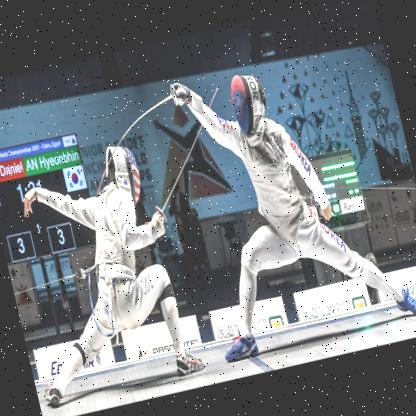fencer: (157, 23, 415, 369), (0, 124, 212, 410)
